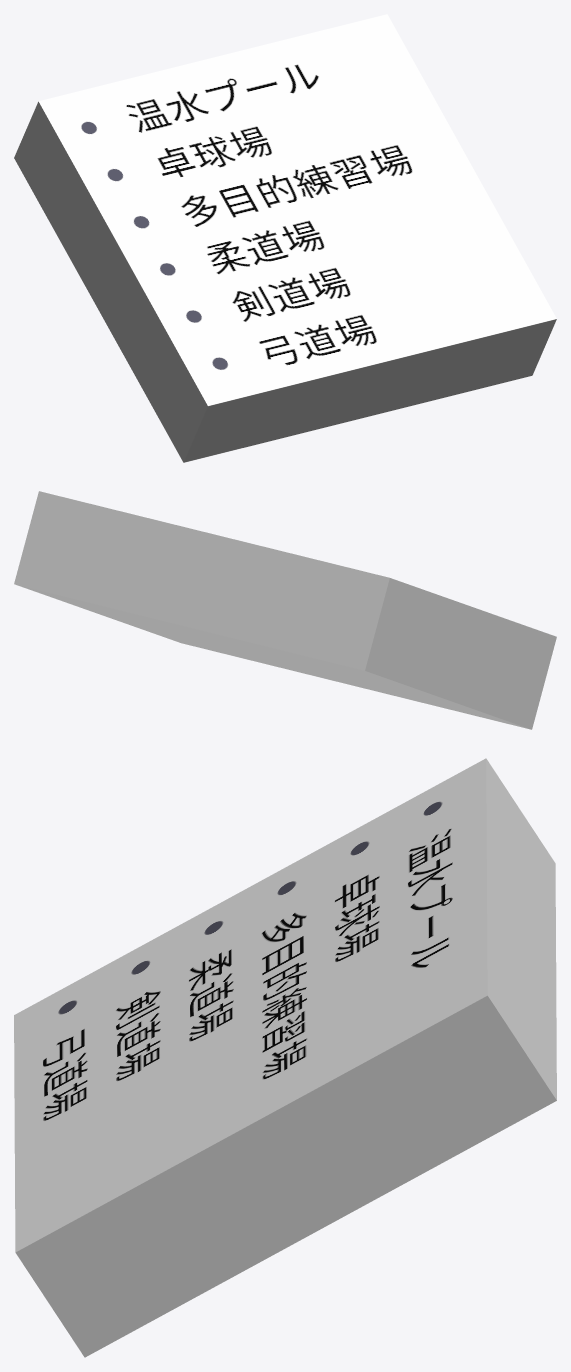
3 views of the same model, one above another, from view 1: azimuth 30°, elevation 25°; view 2: azimuth 150°, elevation 25°; view 3: azimuth 270°, elevation 25° (orthographic). The views are drawn at different scales.
Visible parts, largest first — view 1: 立方体; view 2: 立方体; view 3: 立方体.
Boxes of the visible parts, box(x1,y1,x2,y2) form: 立方体: box(14, 14, 556, 462); 立方体: box(14, 491, 556, 729); 立方体: box(14, 758, 556, 1357).
Bounding box in the file's own units: 0.5038 × 0.3546 × 0.4803.
Materials: 2 (1 with a texture image).
